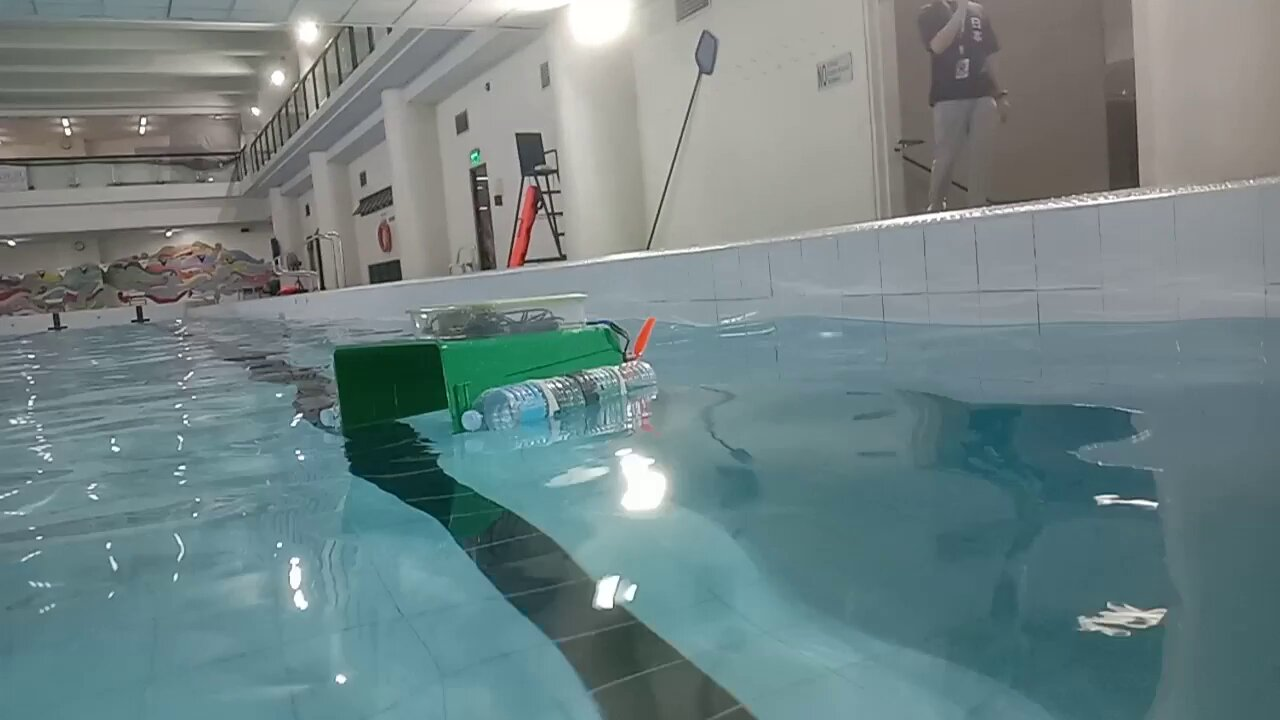drone: (331, 293, 657, 436)
